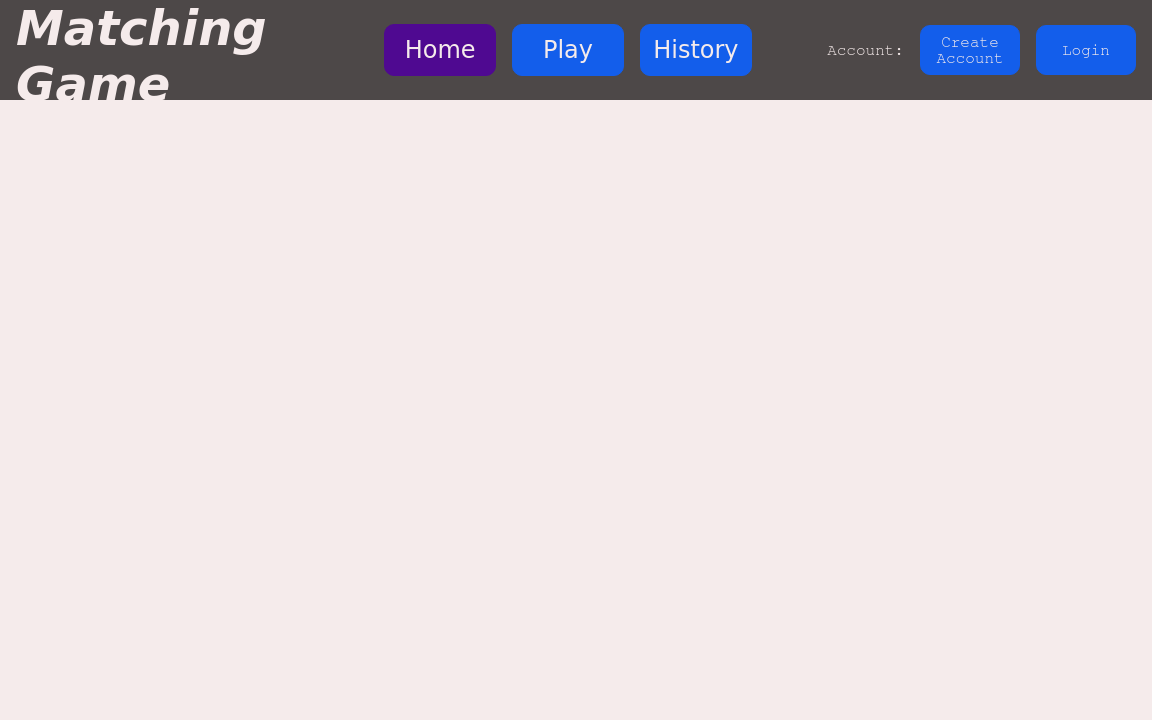
Test case: Header component › Tests when the user is logged out › Testing the Login Modal › Logging in successfully
Click the button "Login" at [1086, 50], box [1036,25,1136,75]
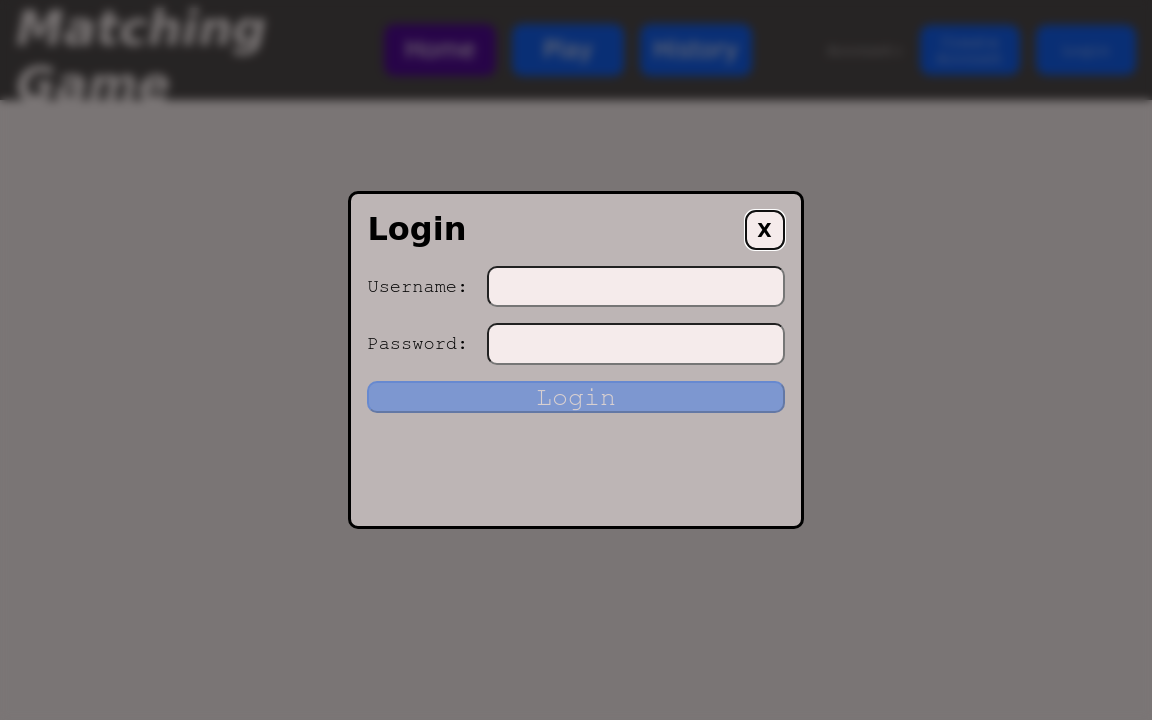
Type "tester1" into the field labelled "Username:" at [636, 287], box [487,266,785,307]
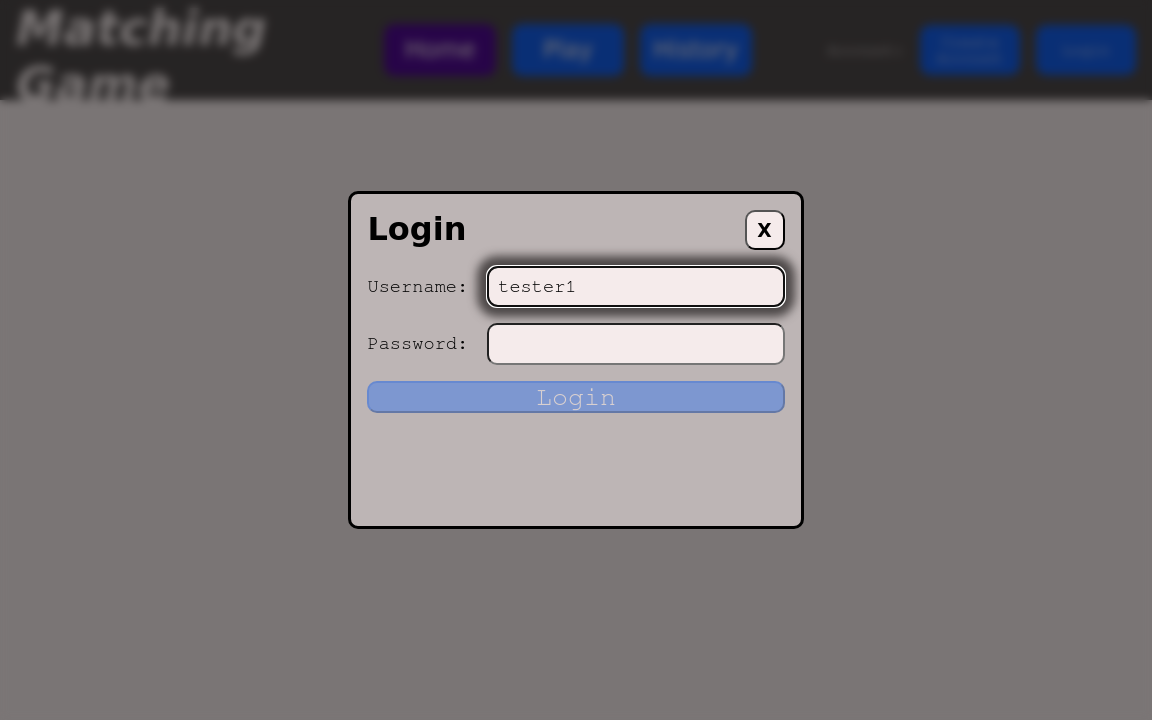
Type "Password1234!" into the password field labelled "Password:" at [636, 344], box [487,323,785,365]
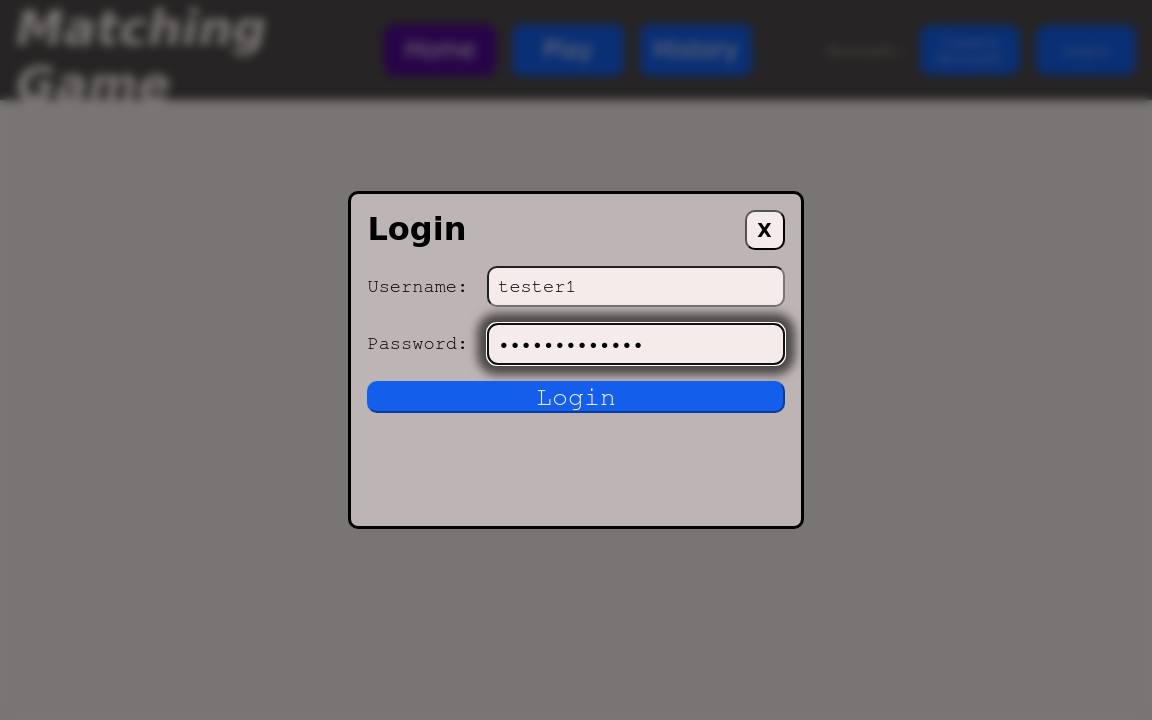
Click the button "Login" at [576, 397], box [368,381,785,413]
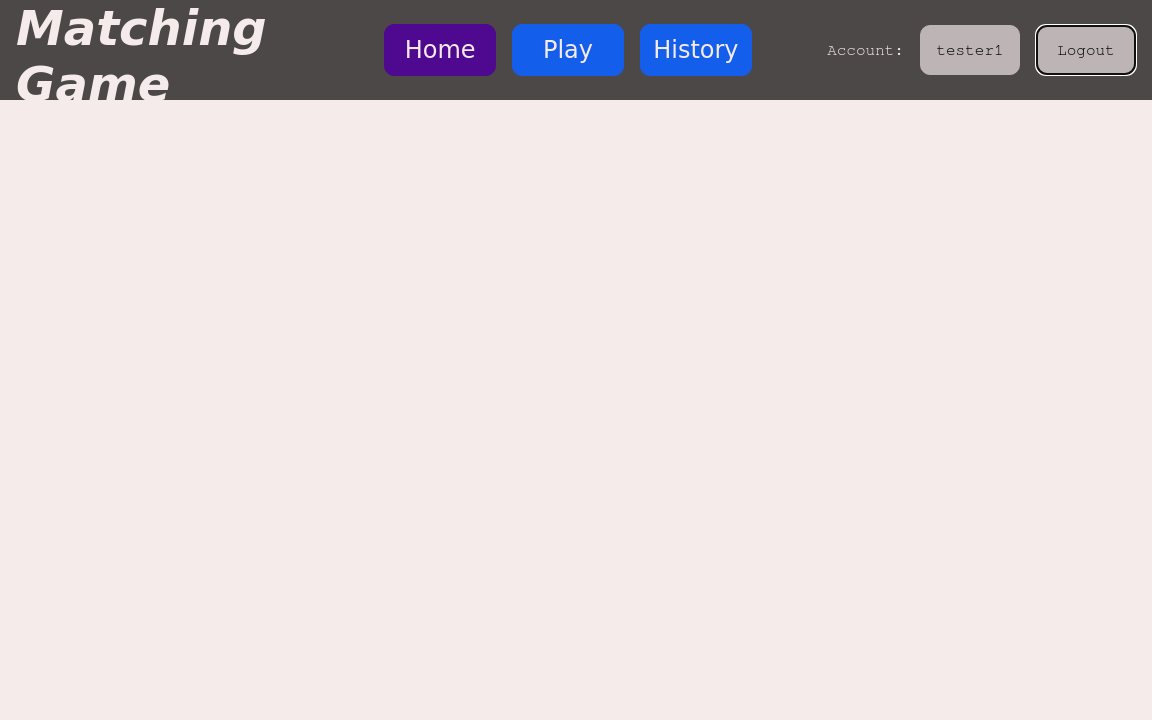
Result: the button "Logout" is shown at [1036,25,1136,75]
